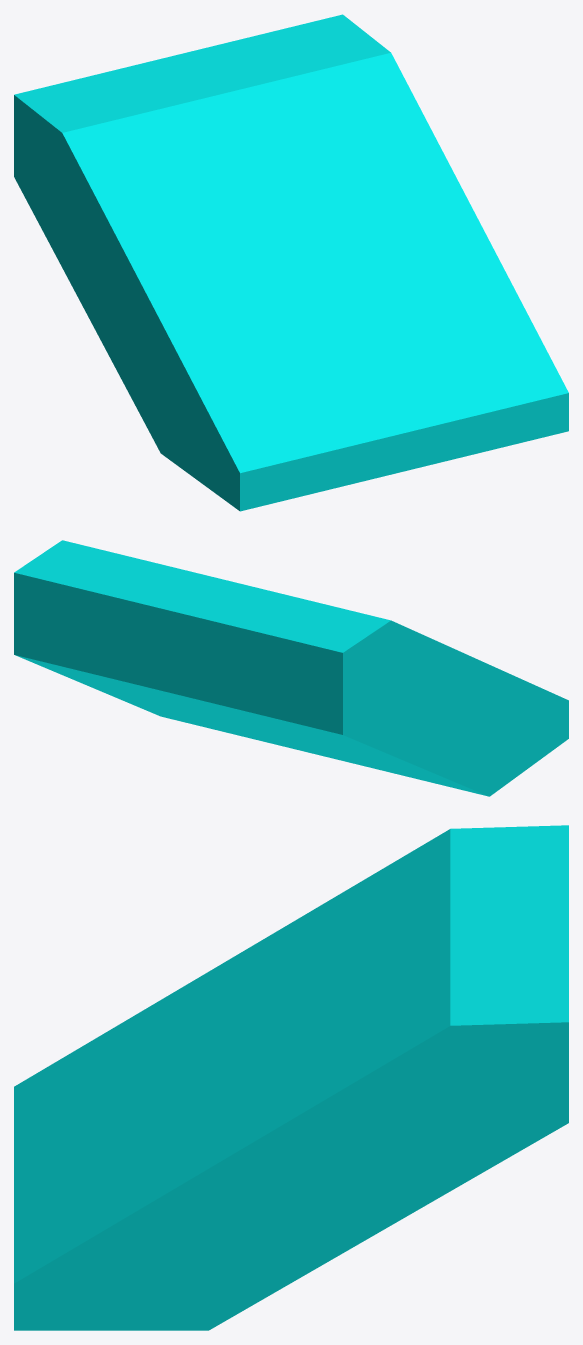
The model's file is SM_Bld_Stairs_Half_02_Collision.fbx.
3 renders of one model, top to bottom at view 1: azimuth 30°, elevation 25°; view 2: azimuth 150°, elevation 25°; view 3: azimuth 270°, elevation 25°, orthographic. The views are drawn at different scales.
Parts seen in each view (by area): view 1: SM_Bld_Stairs_Half_02_Collision; view 2: SM_Bld_Stairs_Half_02_Collision; view 3: SM_Bld_Stairs_Half_02_Collision.
Boxes of the visible parts, bbox=[...] form: SM_Bld_Stairs_Half_02_Collision: bbox=[14, 14, 568, 511]; SM_Bld_Stairs_Half_02_Collision: bbox=[14, 540, 568, 796]; SM_Bld_Stairs_Half_02_Collision: bbox=[14, 825, 568, 1330].
Size of the model in its own units: 119 by 86.68 by 141.
